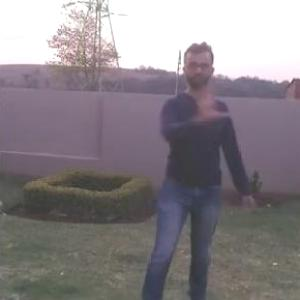follow_hand: (190, 77, 231, 123)
